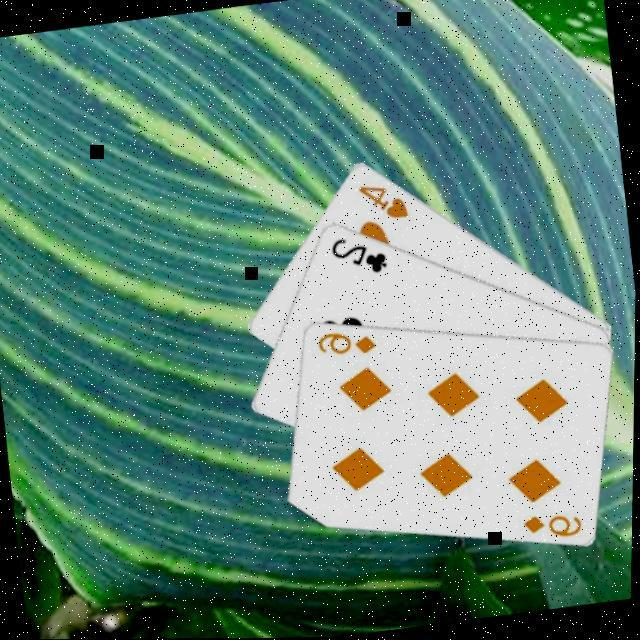2C: (328, 228, 394, 279)
4H: (356, 175, 414, 225)
6D: (314, 322, 381, 362), (521, 504, 588, 544)
